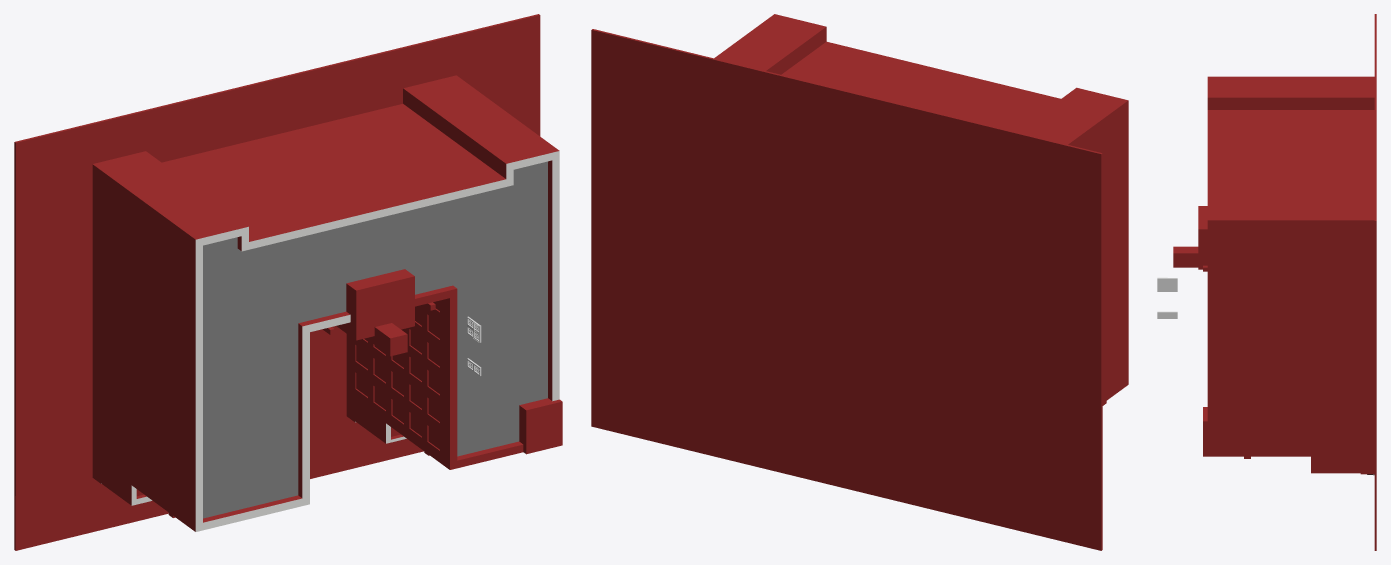
The model's file is ps122_building v5.fbx.
3 renders of one model, left to right at view 1: azimuth 30°, elevation 25°; view 2: azimuth 150°, elevation 25°; view 3: azimuth 270°, elevation 25°, orthographic. The views are drawn at different scales.
Parts seen in each view (by area): view 1: Body1; view 2: Body1; view 3: Body1, Body2.
Boxes of the visible parts, x1=… form: Body1: x1=14, y1=14, x2=562, y2=550; Body1: x1=591, y1=14, x2=1128, y2=550; Body1: x1=1173, y1=14, x2=1376, y2=550; Body2: x1=1157, y1=278, x2=1177, y2=291.
Size of the model in its own units: 214 by 159 by 96.
